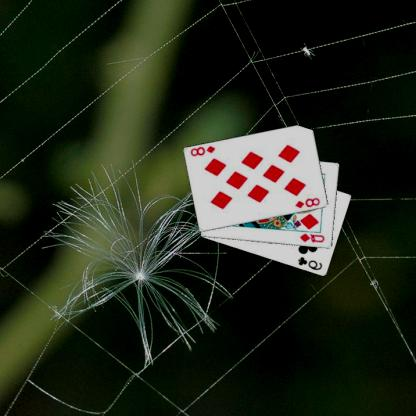6C: (297, 254, 325, 272)
8D: (295, 195, 323, 209), (190, 144, 218, 158)
QD: (299, 231, 327, 244)
